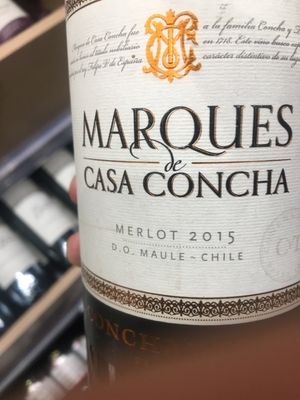marques de casa concha merlot: (67, 3, 300, 390)
